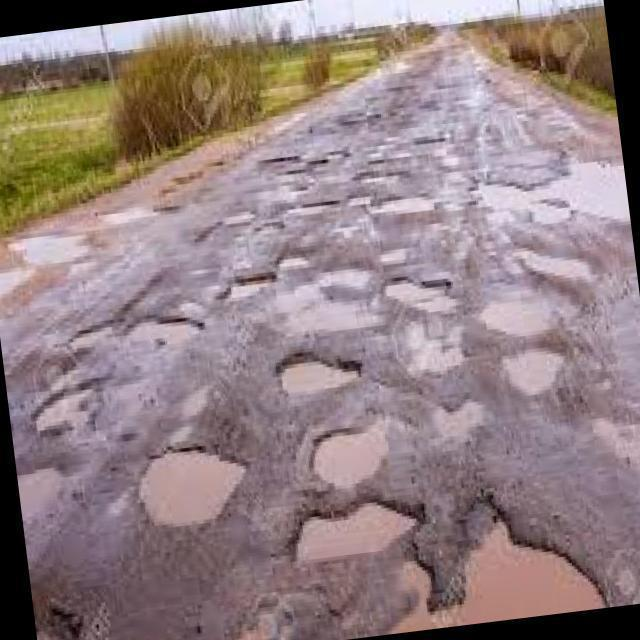pothole: (442, 493, 610, 617), (128, 442, 253, 542), (478, 282, 602, 336), (310, 426, 399, 492), (282, 517, 406, 564), (359, 270, 461, 317), (32, 385, 126, 435), (489, 348, 575, 401), (285, 354, 363, 398), (122, 313, 211, 347), (216, 272, 278, 306), (378, 198, 444, 218), (348, 168, 408, 185), (290, 203, 343, 218), (276, 256, 319, 272), (265, 152, 300, 170), (300, 157, 339, 170), (411, 137, 448, 146)
